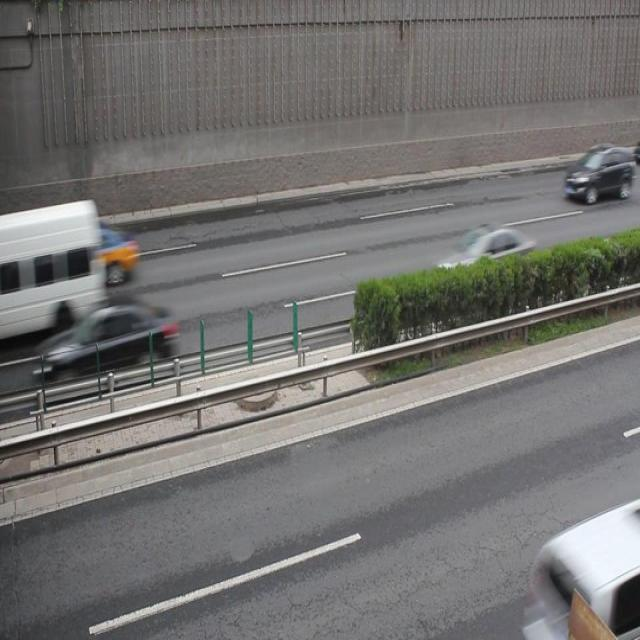car: (527, 505, 640, 640), (40, 300, 182, 380), (435, 222, 534, 286), (50, 220, 139, 288), (564, 140, 631, 203)
truck: (1, 196, 104, 338)
